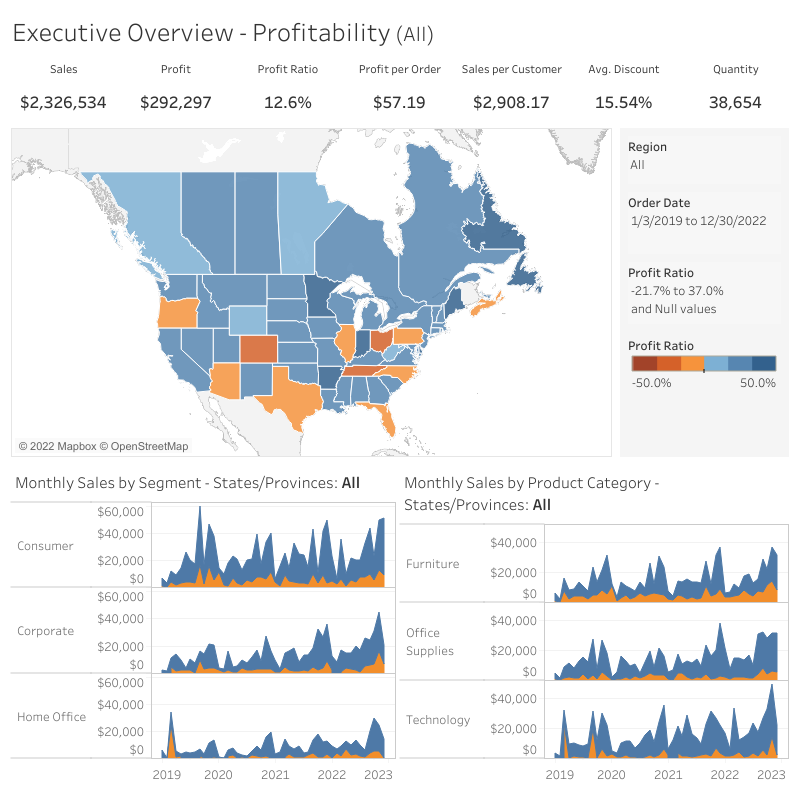

What the dashboard file says about the page in this screenshot:
{"tool":"tableau","page":{"name":"Overview","canvas":[1000,1000],"units":"permille","ordinal":3},"visuals":[{"type":"worksheet","title":"Total Sales","mark":"Automatic","box":[3,7.1,994.1,118.4]},{"type":"worksheet","title":"Sale Map","mark":"Multipolygon","box":[3,125.5,919.4,341.1]},{"type":"filter","title":"Sale Map","param":"[federated.10nnk8d1vgmw8q17yu76u06pnbcj].[none:Region:nk]","box":[925.7,133.6,68,52.6]},{"type":"filter","title":"Sale Map","param":"[federated.10nnk8d1vgmw8q17yu76u06pnbcj].[none:Order Date:qk]","box":[925.7,186.2,68,69.8]},{"type":"filter","title":"Sale Map","param":"[federated.10nnk8d1vgmw8q17yu76u06pnbcj].[usr:Calculation_9921103144103743:qk]","box":[925.7,256.1,68,69.8]},{"type":"legend","title":"Sale Map","param":"[federated.10nnk8d1vgmw8q17yu76u06pnbcj].[usr:Calculation_9921103144103743:qk]","box":[925.7,325.9,68,65.8]},{"type":"worksheet","title":"Sales by Segment","mark":"Area","rows":["Segment","Sales"],"cols":["Order Date"],"box":[4.6,470.7,494.5,518.2]},{"type":"worksheet","title":"Sales by Product","mark":"Area","rows":["Category","Sales"],"cols":["Order Date"],"box":[499.2,470.7,496.2,518.2]}]}

Visuals, with their boxes on the dashboard's canvas, which has no fixed pixel size, in thousandths of its width and height (x1, y1, x2, y2). These are canvas units, not pixel positions in the 800x800 screenshot, which may show the page scaled, cropped or inside an application window:
"Total Sales" worksheet: Rect(3, 7, 997, 126)
"Sale Map" worksheet (Multipolygon marks): Rect(3, 126, 922, 467)
"Sale Map" filter: Rect(926, 134, 994, 186)
"Sale Map" filter: Rect(926, 186, 994, 256)
"Sale Map" filter: Rect(926, 256, 994, 326)
"Sale Map" legend: Rect(926, 326, 994, 392)
"Sales by Segment" worksheet (Area marks): Rect(5, 471, 499, 989)
"Sales by Product" worksheet (Area marks): Rect(499, 471, 995, 989)
